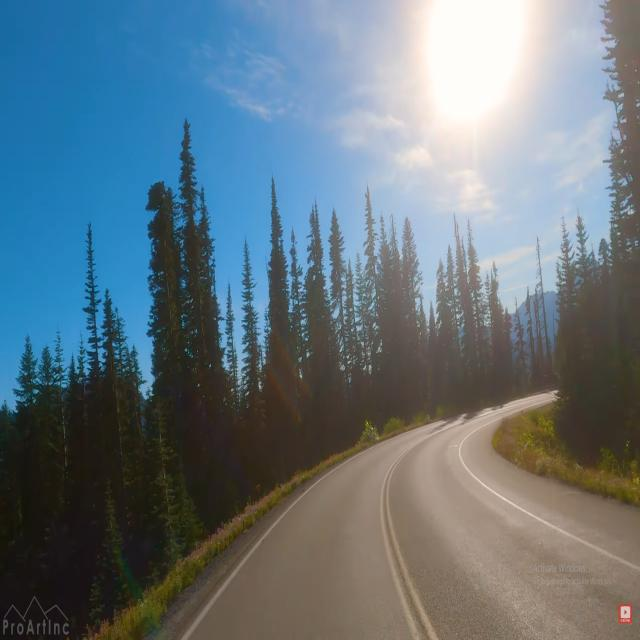sun: (378, 0, 561, 169)
